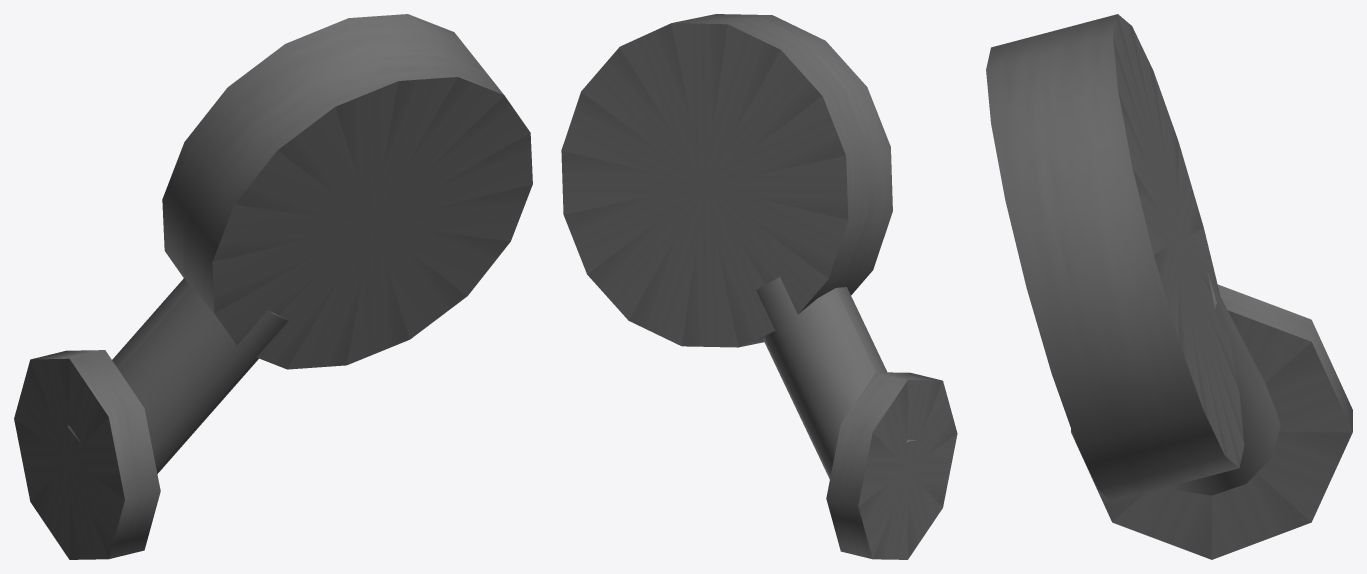
Rendered from mastarmcurve_5x1_c1_west.obj.
3 views of the same model, side by side, from view 1: azimuth 30°, elevation 25°; view 2: azimuth 150°, elevation 25°; view 3: azimuth 270°, elevation 25° (orthographic). The views are drawn at different scales.
Parts seen in each view (by area): view 1: mastarm_5x1_c1_west; view 2: mastarm_5x1_c1_west; view 3: mastarm_5x1_c1_west.
Part boxes in pixels (x1=…): mastarm_5x1_c1_west: x1=14, y1=14, x2=532, y2=559; mastarm_5x1_c1_west: x1=561, y1=14, x2=957, y2=559; mastarm_5x1_c1_west: x1=986, y1=14, x2=1352, y2=559.
Size of the model in its own units: 0.8359 by 1.02 by 0.5203.
